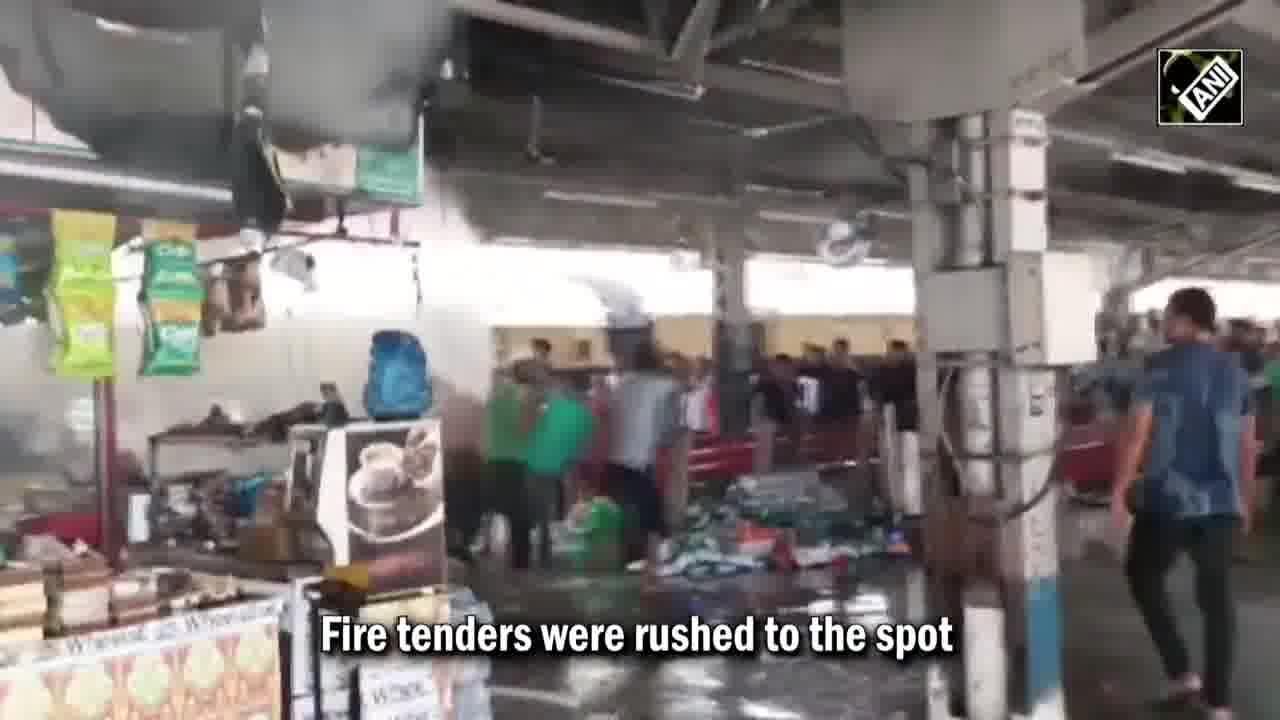smoke: (254, 0, 456, 132)
